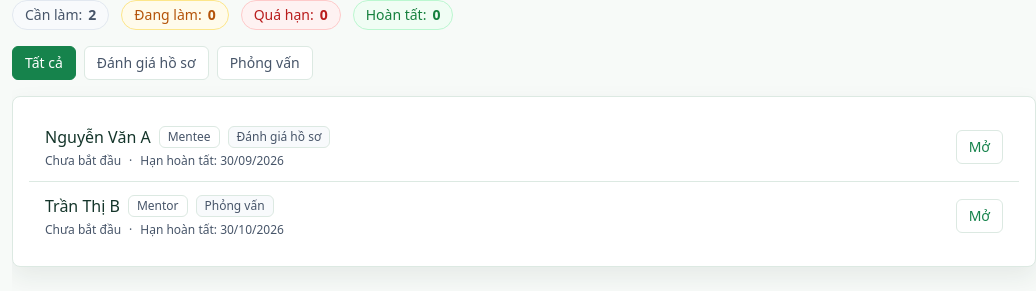
Test: 9. opening and closing the detail preserves My Work context › the filter narrows the list by work type
The width and height of the screenshot is (1036, 291).
expect the number of list items with test id "my-work-item" is 2: met, box [29,113,1019,181]; [29,181,1019,250]
Click the button with test id "my-work-filter-interview".
click(265, 63)  # box [217,46,313,80]
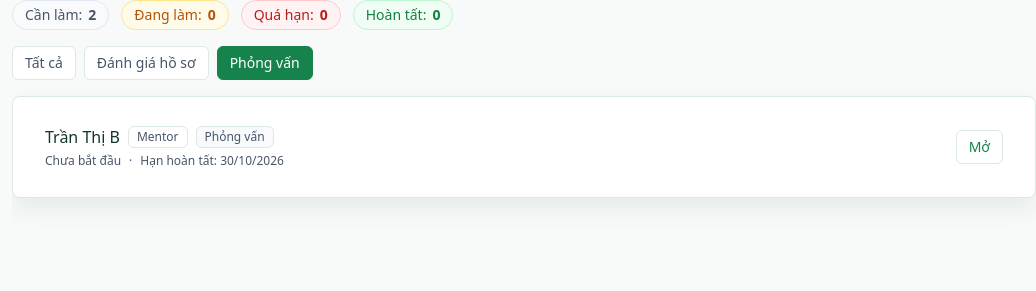
expect the number of list items with test id "my-work-item" is 1: met, box [29,113,1019,181]
